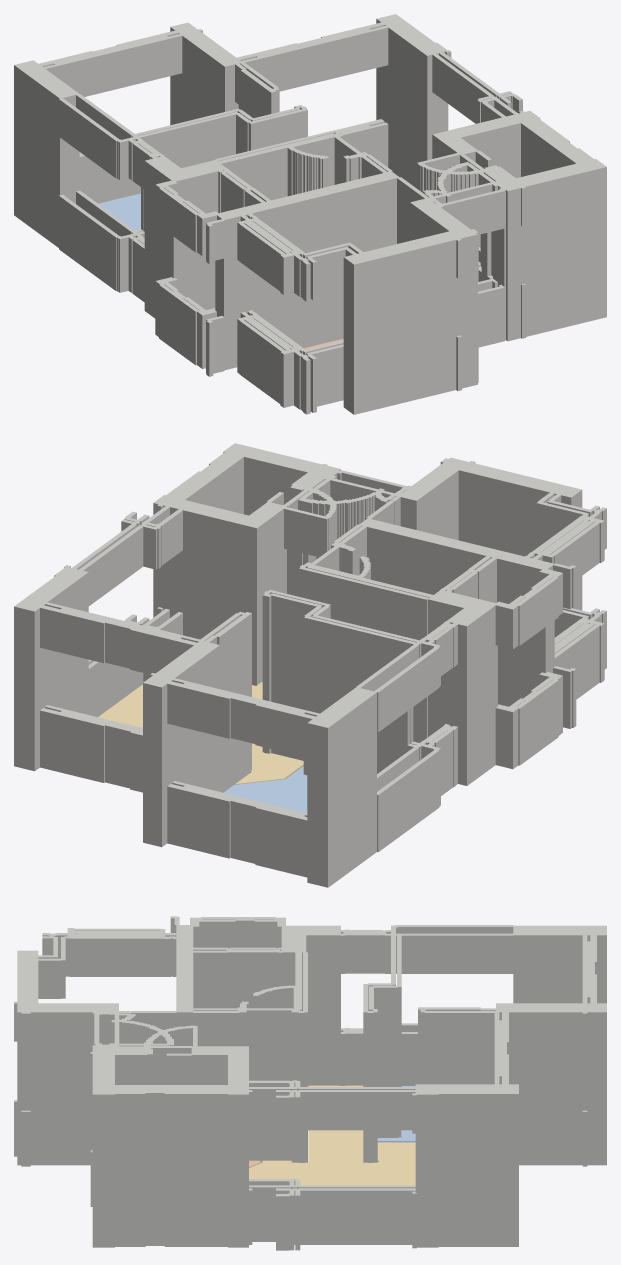
The picture shows the model from 3 angles, top to bottom: view 1: azimuth 30°, elevation 25°; view 2: azimuth 150°, elevation 25°; view 3: azimuth 270°, elevation 25°; orthographic projection. The views are drawn at different scales.
Parts seen in each view (by area): view 1: walls, room:bedroom:1; view 2: walls, room:living:0, room:bedroom:1; view 3: walls, room:living:0.
Boxes of the visible parts, x1,y1,x2,y2 form: walls: (14, 14, 606, 414); room:bedroom:1: (98, 193, 140, 230); walls: (14, 443, 606, 887); room:living:0: (98, 682, 303, 784); room:bedroom:1: (223, 766, 307, 812); walls: (14, 916, 606, 1250); room:living:0: (249, 1085, 415, 1185).
Bounding box in the file's own units: 7.13 × 2.8 × 9.84.
